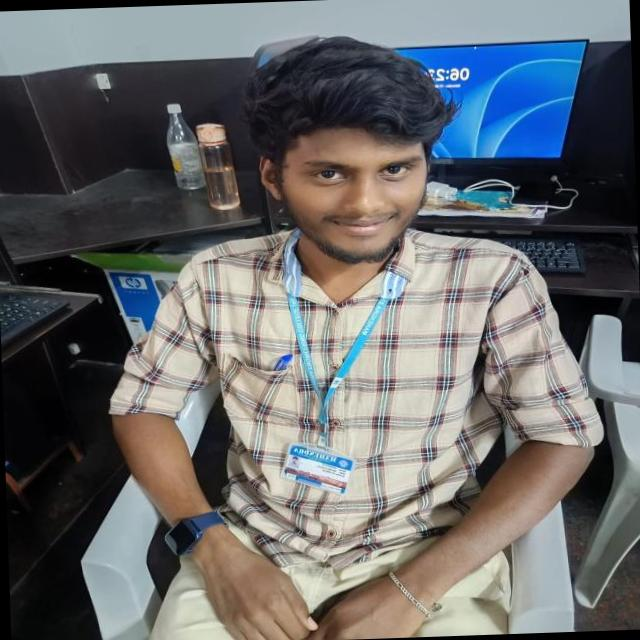id_card: (274, 279, 399, 495)
